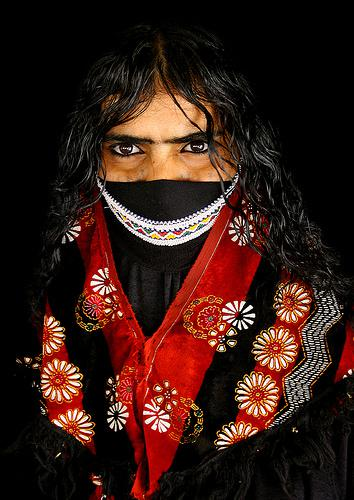WRONG: (94, 109, 249, 260)
